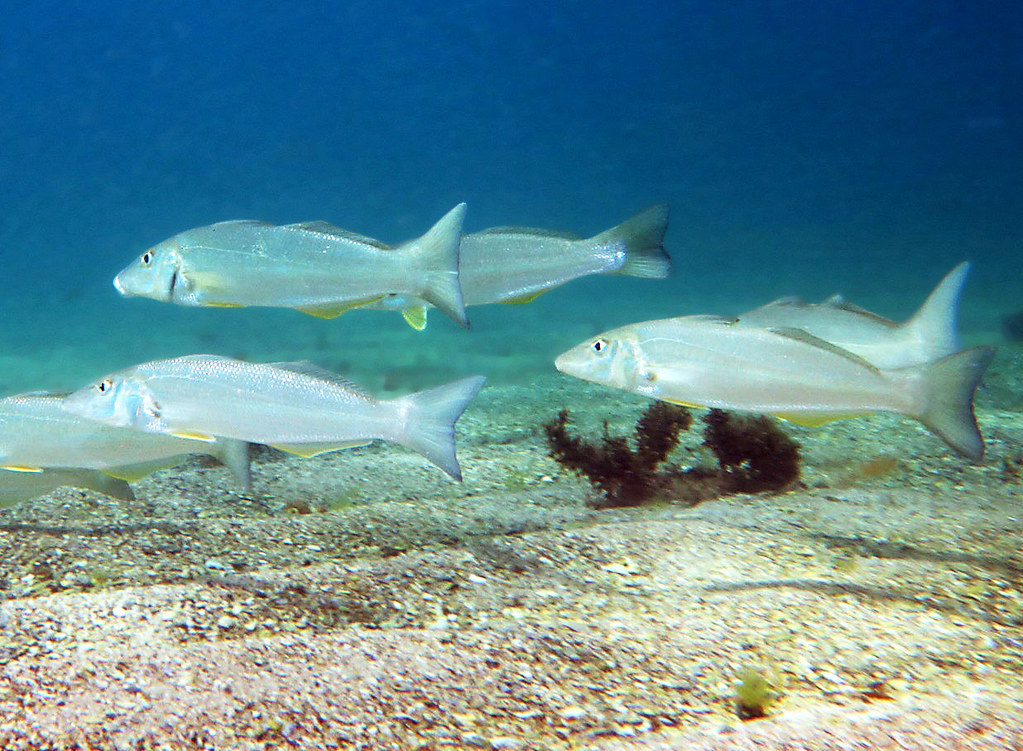kiss: (548, 300, 992, 463), (72, 349, 485, 491), (108, 204, 468, 321)
